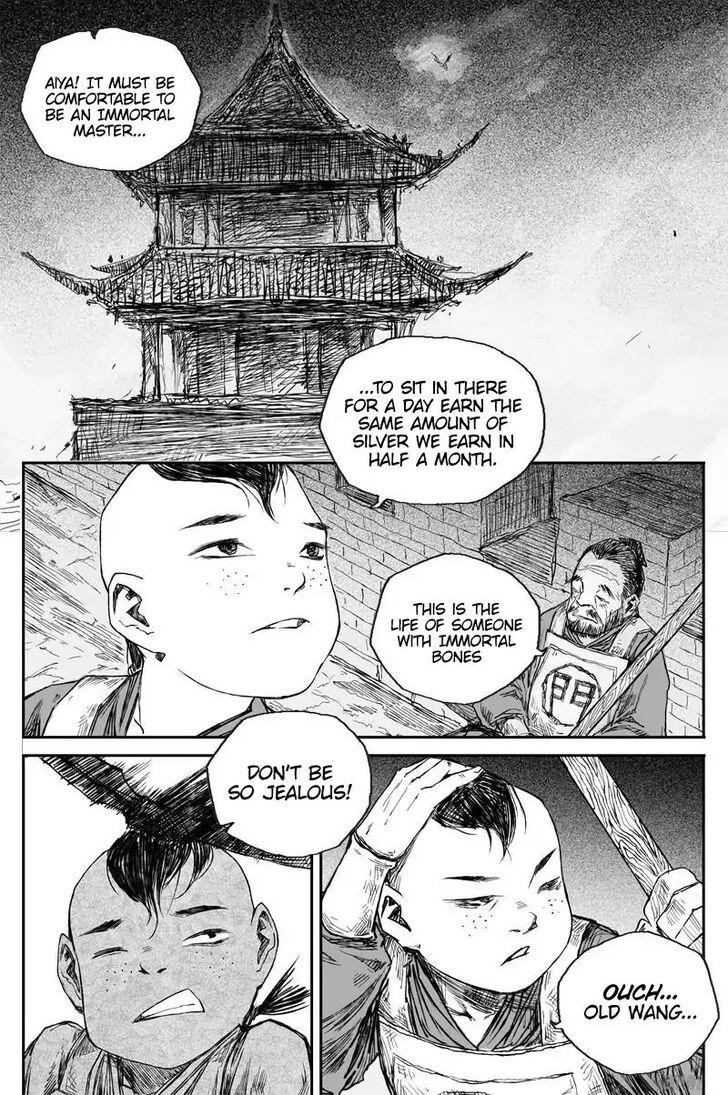Bubble: (317, 335, 546, 508), (369, 551, 544, 706), (19, 26, 203, 173), (206, 709, 373, 859), (555, 930, 720, 1076)
